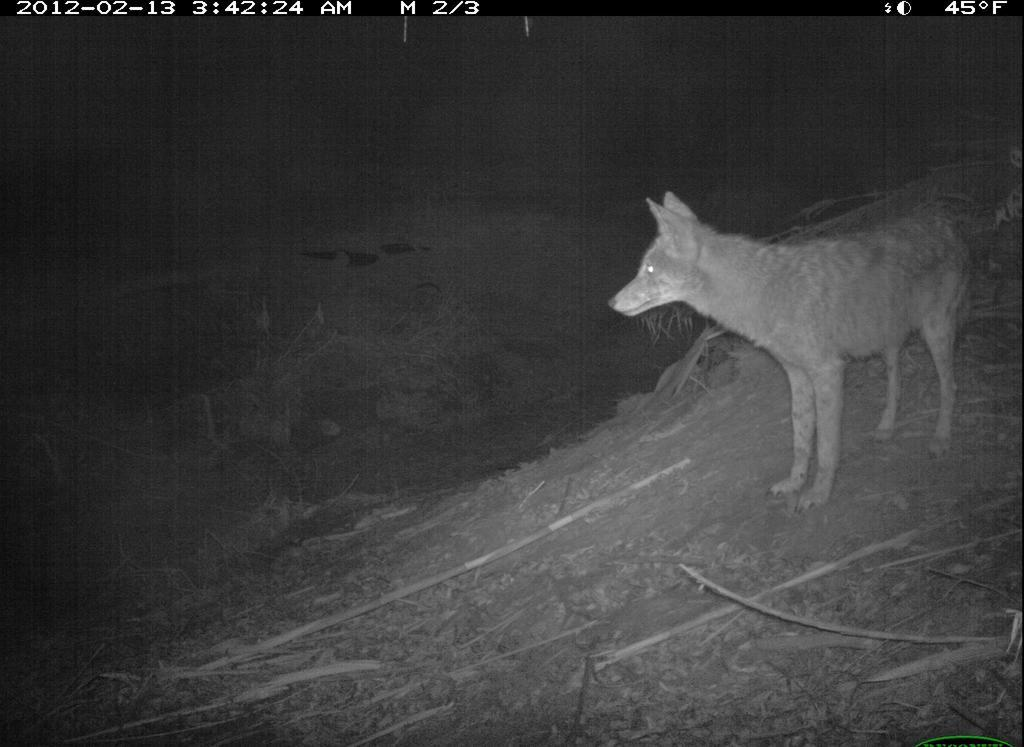coyote: (603, 177, 986, 515)
